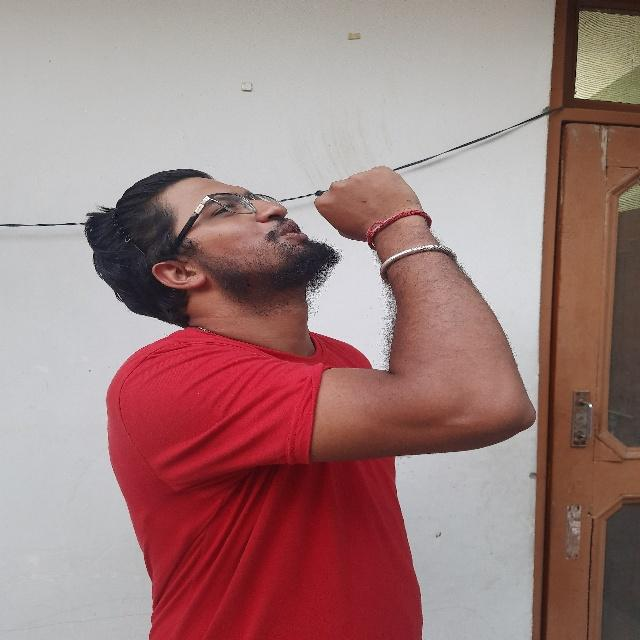Fist Mouth: (95, 158, 452, 317)
